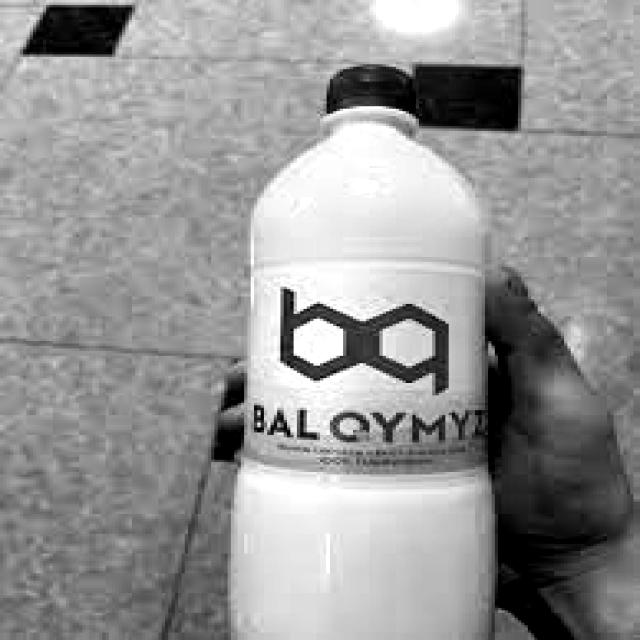balqymyz: (253, 278, 492, 460)
